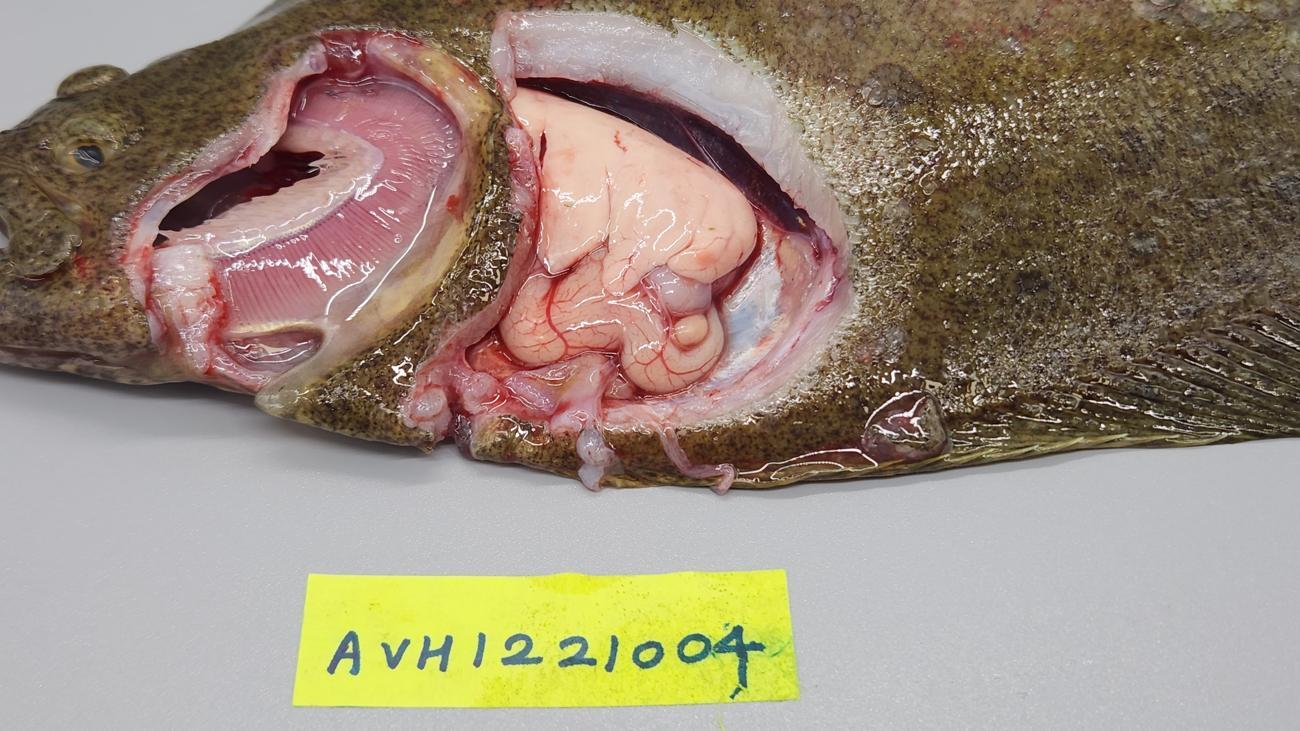VIGIP: (233, 87, 451, 331)
